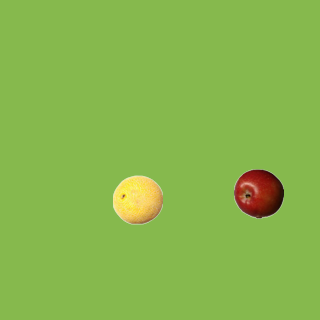Apple Braeburn: (233, 168, 283, 218)
Cantaloupe 1: (112, 174, 162, 224)
